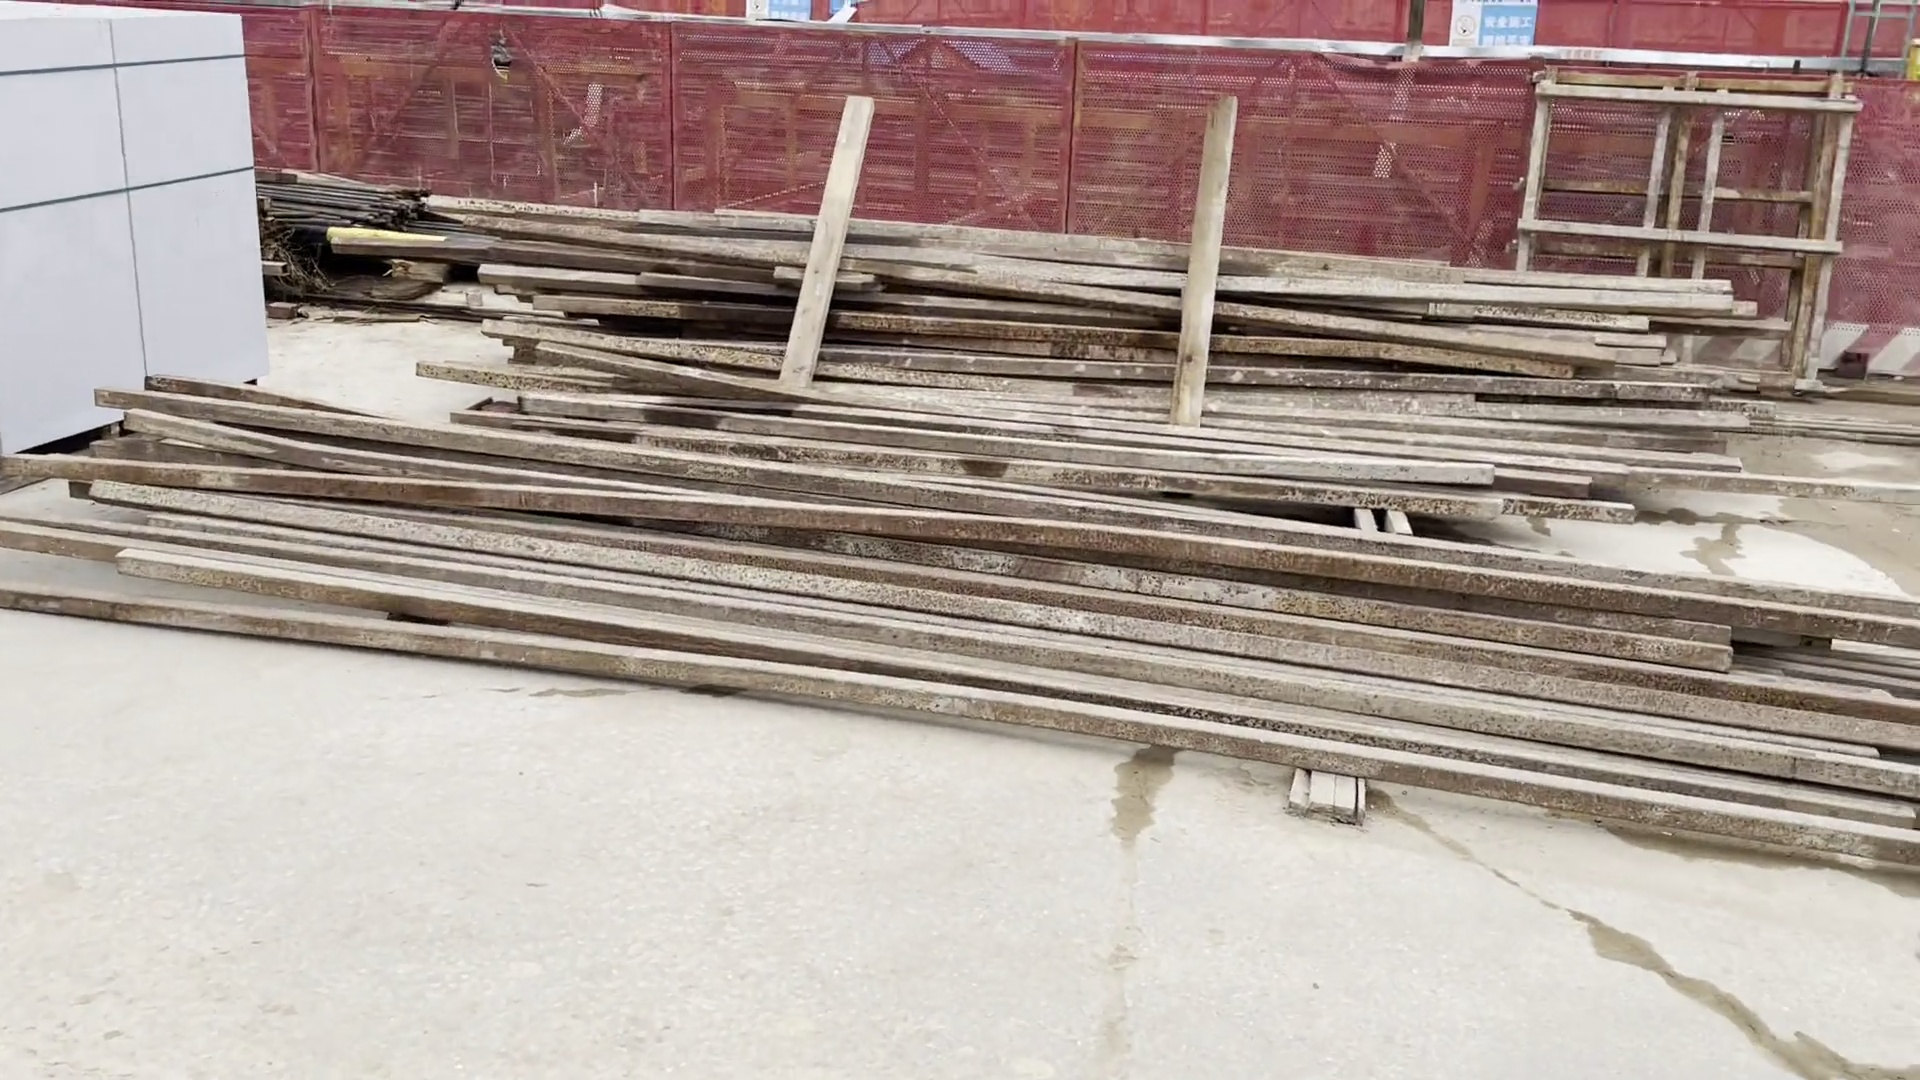wood: (18, 167, 1920, 897)
